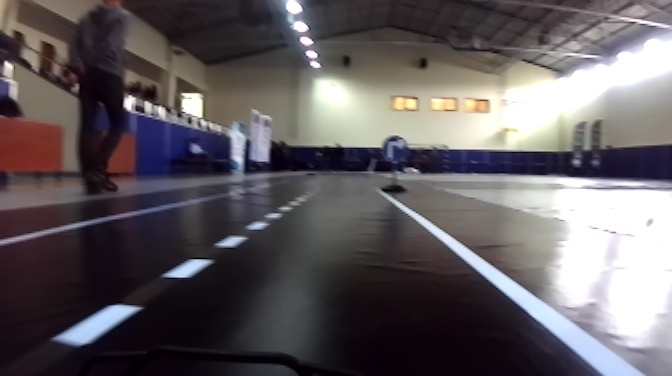saga_donus: (379, 136, 410, 163)
